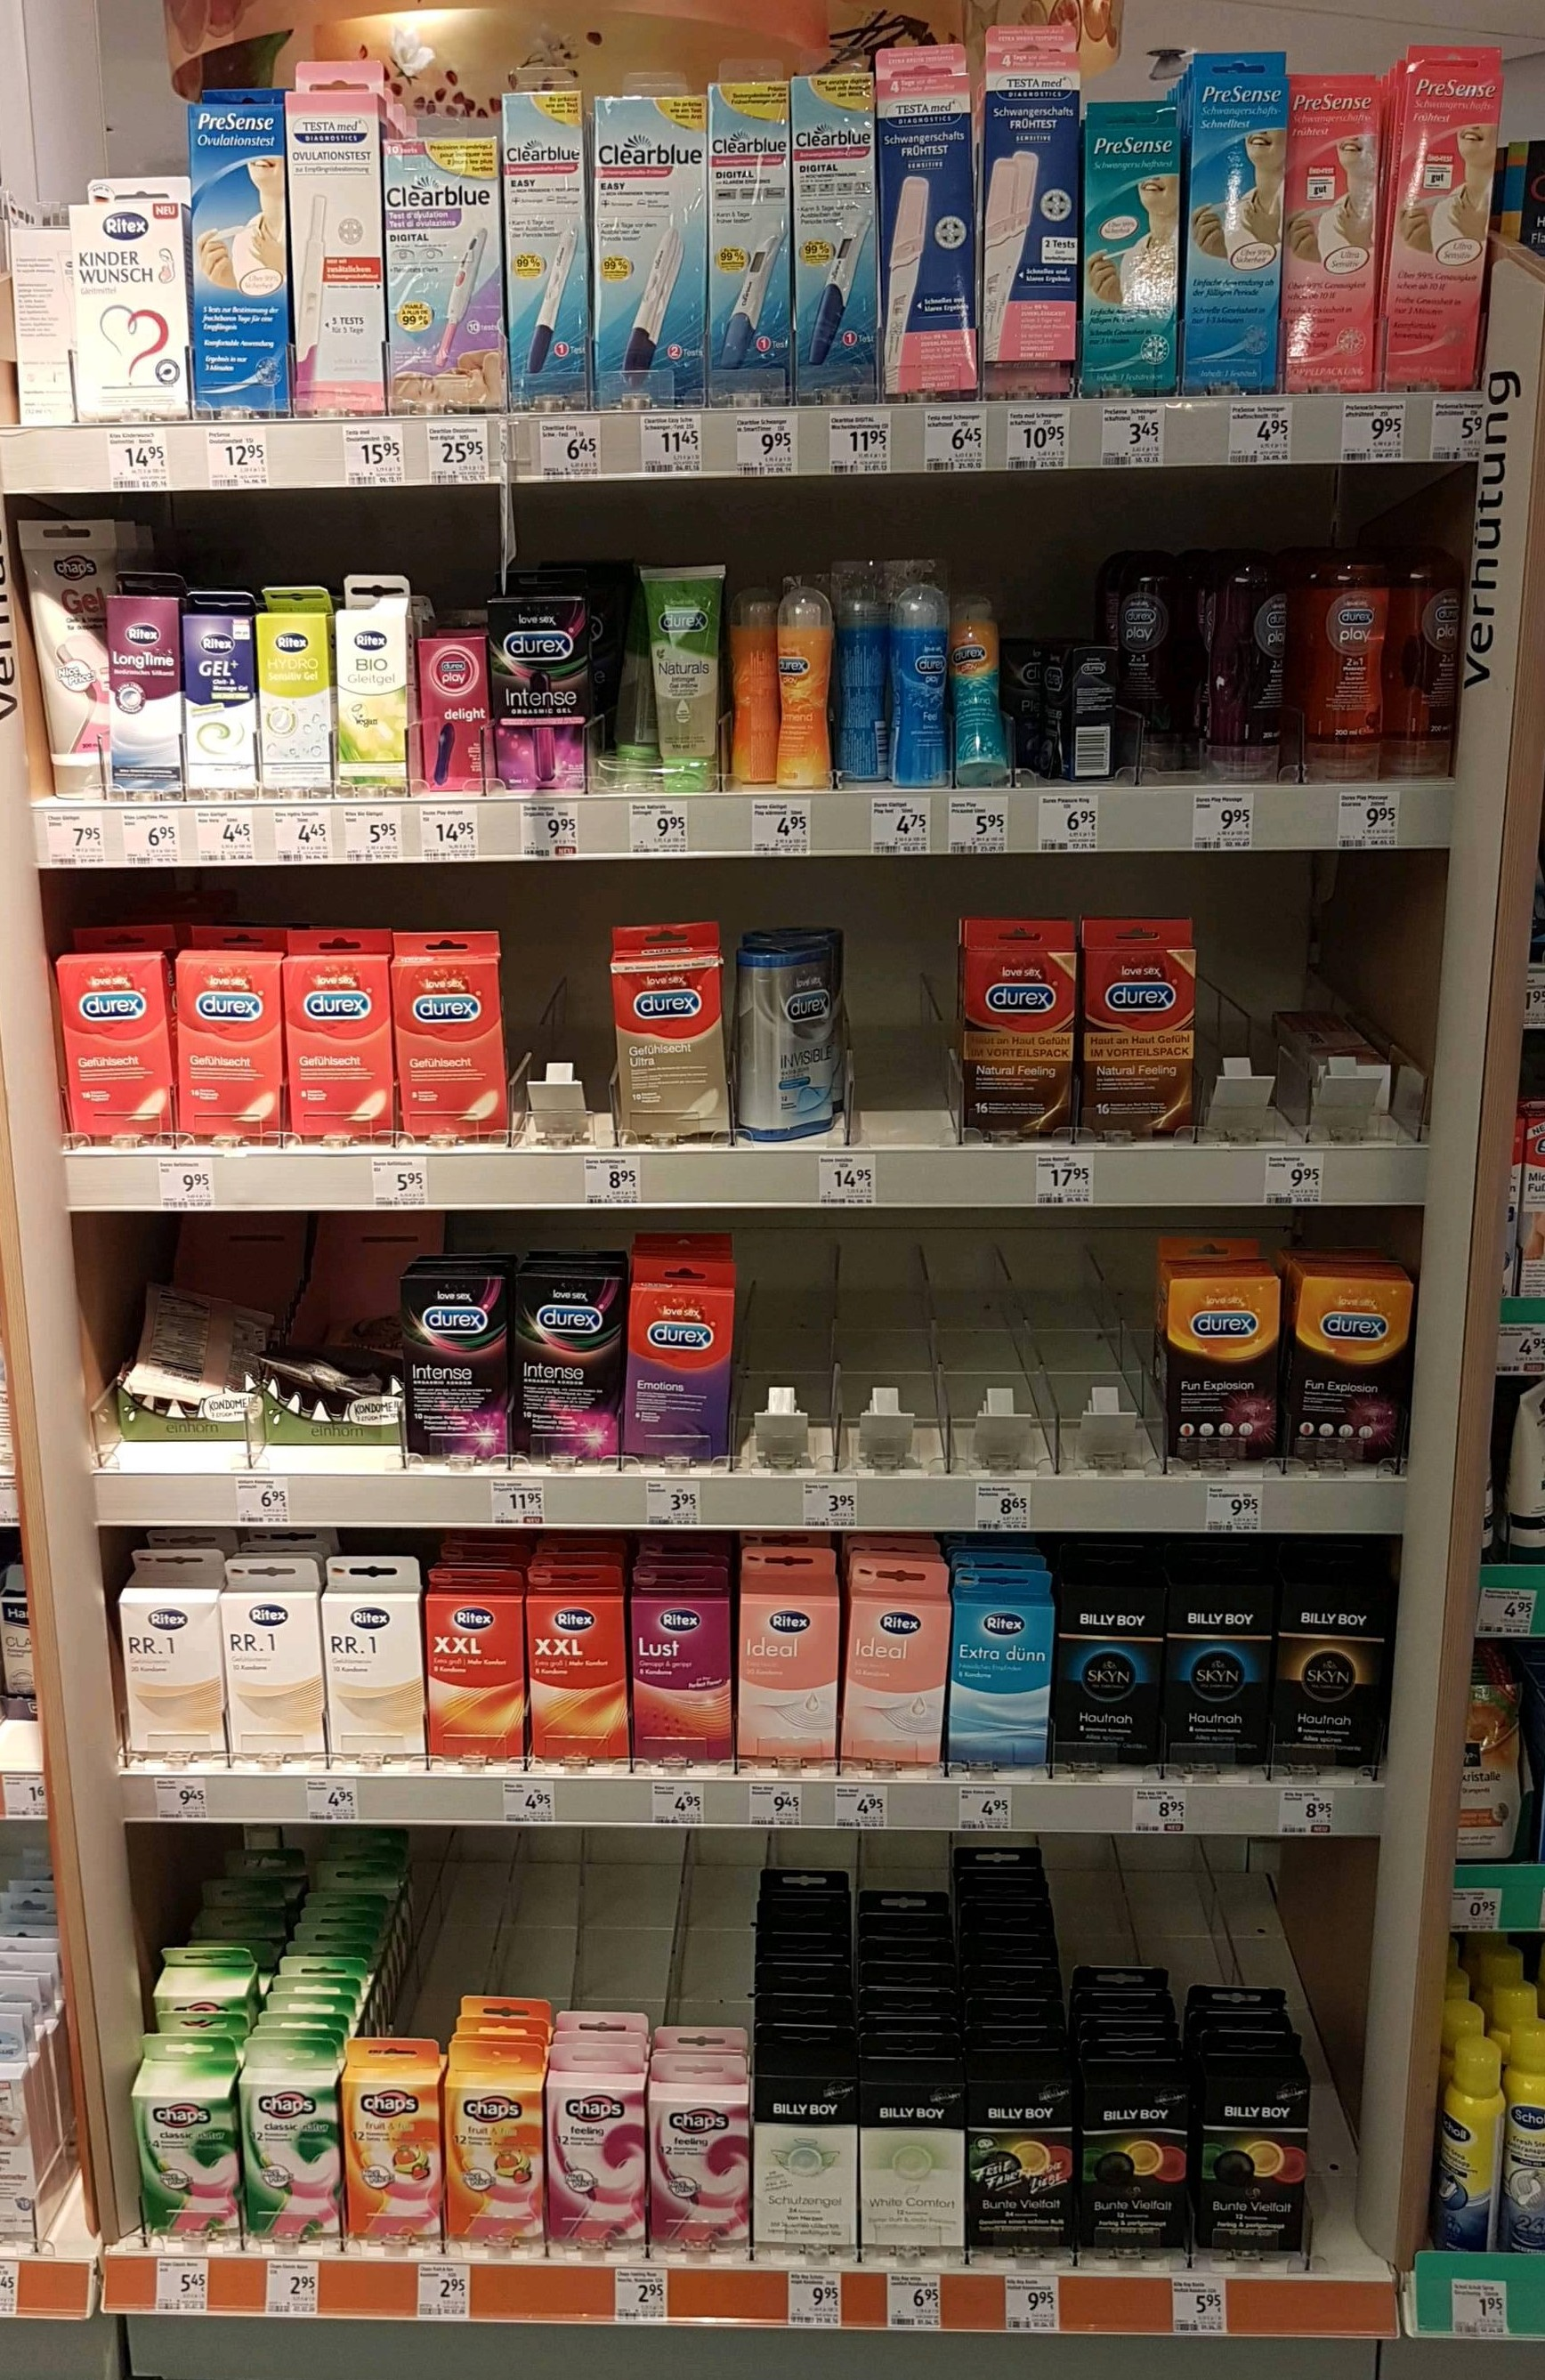empty: (747, 1235, 1143, 1454), (1202, 919, 1389, 1128), (503, 942, 607, 1126), (855, 904, 938, 1131)
misalignment: (123, 1270, 395, 1419)
